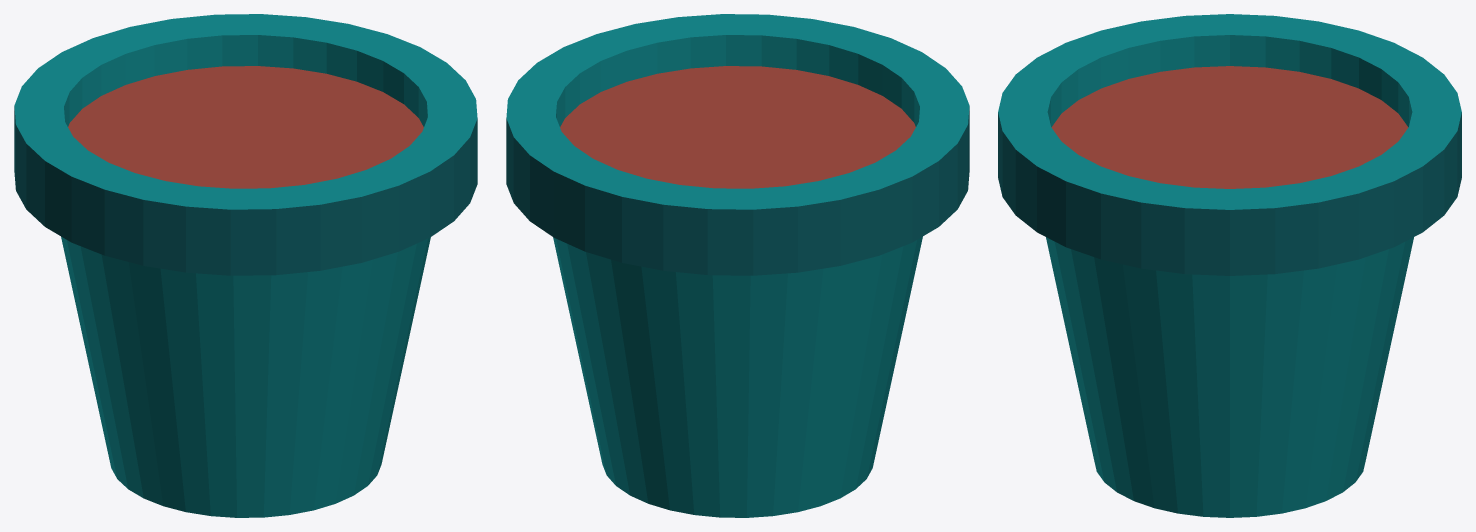
The model's file is Pot_5.fbx.
3 views of the same model, side by side, from view 1: azimuth 30°, elevation 25°; view 2: azimuth 150°, elevation 25°; view 3: azimuth 270°, elevation 25° (orthographic).
Parts seen in each view (by area): view 1: Cylinder.002; view 2: Cylinder.002; view 3: Cylinder.002.
Part boxes in pixels (left/top/right/bottom): Cylinder.002: left=14, top=14, right=477, bottom=517; Cylinder.002: left=506, top=14, right=969, bottom=517; Cylinder.002: left=998, top=14, right=1461, bottom=517.
Bounding box in the file's own units: 23.4 × 19.4 × 23.4.
Materials: 1 (1 with a texture image).
